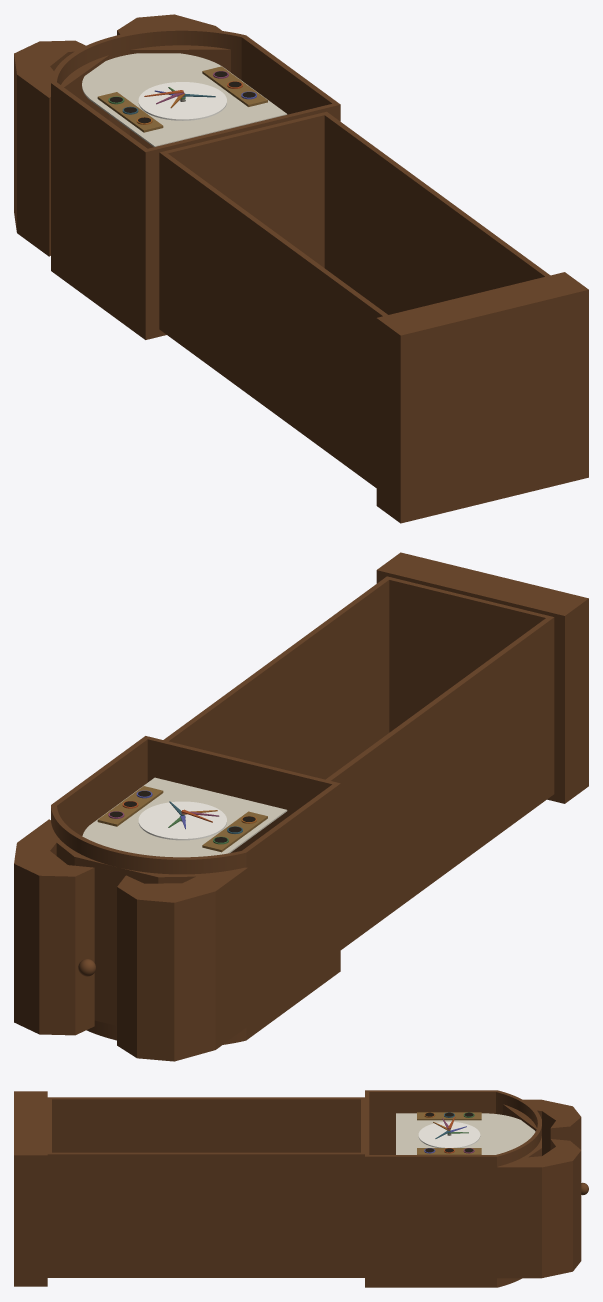
Rendered from weasley_clock.glb.
The picture shows the model from 3 angles, top to bottom: view 1: azimuth 30°, elevation 25°; view 2: azimuth 150°, elevation 25°; view 3: azimuth 270°, elevation 25°; orthographic projection. The views are drawn at different scales.
Visible parts, largest first — view 1: case_trunk, case_plinth, case_hood, case_pediment_L, dial_plate, dial, case_pediment_R, screen_panel_L, screen_panel_R; view 2: case_trunk, case_hood, case_pediment_L, case_pediment_R, case_plinth, dial_plate, dial, screen_panel_R, screen_panel_L; view 3: case_trunk, case_hood, case_pediment_R, case_plinth, dial_plate, case_pediment_L, dial, screen_panel_L, screen_panel_R.
Part boxes in pixels (x1,y1,x2,y2): case_trunk: [159, 111, 550, 487]; case_plinth: [376, 272, 588, 523]; case_hood: [51, 28, 340, 339]; case_pediment_L: [14, 40, 109, 256]; dial_plate: [82, 53, 287, 146]; dial: [138, 82, 226, 120]; case_pediment_R: [117, 14, 230, 148]; screen_panel_L: [97, 92, 163, 132]; screen_panel_R: [202, 66, 267, 106]; case_trunk: [163, 576, 554, 949]; case_hood: [51, 736, 340, 1044]; case_pediment_L: [116, 867, 247, 1061]; case_pediment_R: [14, 819, 116, 1035]; case_plinth: [376, 552, 588, 803]; dial_plate: [82, 777, 287, 857]; dial: [138, 801, 226, 840]; screen_panel_R: [97, 786, 163, 826]; screen_panel_L: [202, 811, 267, 852]; case_trunk: [47, 1097, 364, 1277]; case_hood: [365, 1090, 541, 1287]; case_pediment_R: [497, 1136, 581, 1278]; case_plinth: [14, 1091, 47, 1286]; dial_plate: [396, 1113, 535, 1154]; case_pediment_L: [503, 1099, 581, 1155]; dial: [418, 1122, 480, 1147]; screen_panel_L: [417, 1112, 481, 1120]; screen_panel_R: [417, 1148, 481, 1154].
Bounding box in the file's own units: 570 × 515 × 2047.
